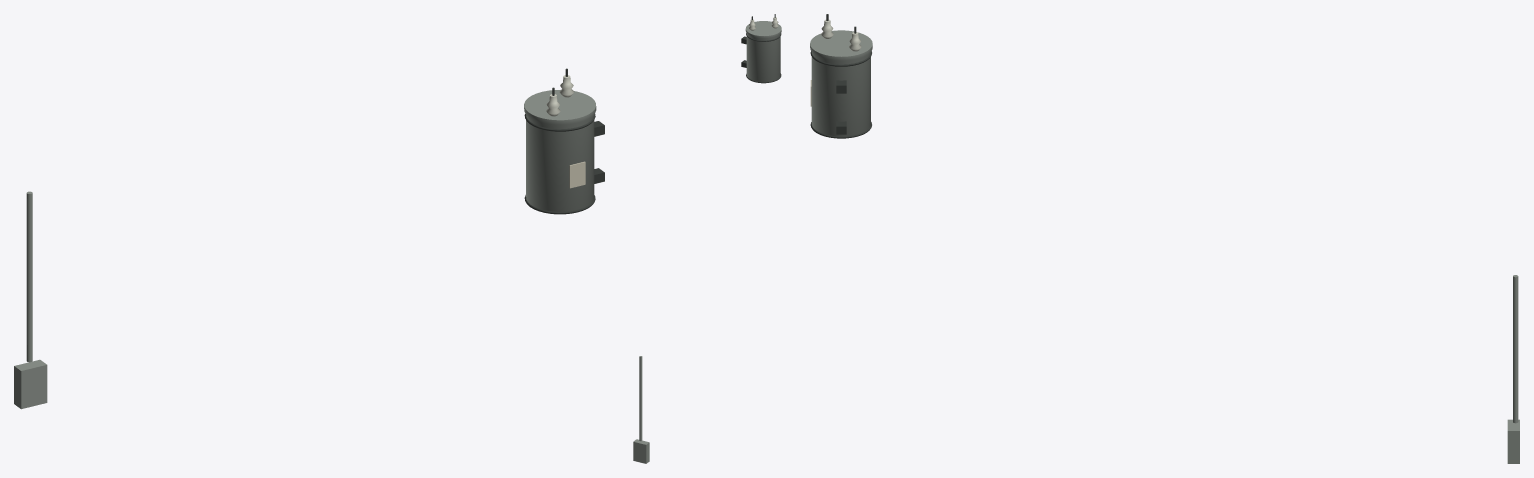
The model's file is SM_SaroSite_ServiceEquipment.glb.
3 views of the same model, side by side, from view 1: azimuth 30°, elevation 25°; view 2: azimuth 150°, elevation 25°; view 3: azimuth 270°, elevation 25° (orthographic). The views are drawn at different scales.
Parts seen in each view (by area): view 1: SM_SaroSite_ServiceEquipment; view 2: SM_SaroSite_ServiceEquipment; view 3: SM_SaroSite_ServiceEquipment.
Boxes of the visible parts, x1,y1,x2,y2 form: SM_SaroSite_ServiceEquipment: (14,68,604,409); SM_SaroSite_ServiceEquipment: (633,14,781,463); SM_SaroSite_ServiceEquipment: (810,14,1519,463).
Bounding box in the file's own units: 2.27 × 6.31 × 8.15.
